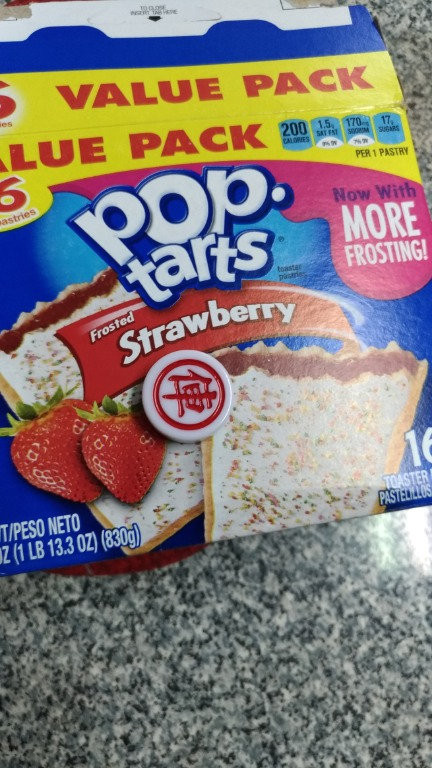r-rook: (134, 338, 261, 452)
